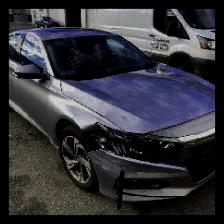head_lamp: (82, 137, 184, 169)
